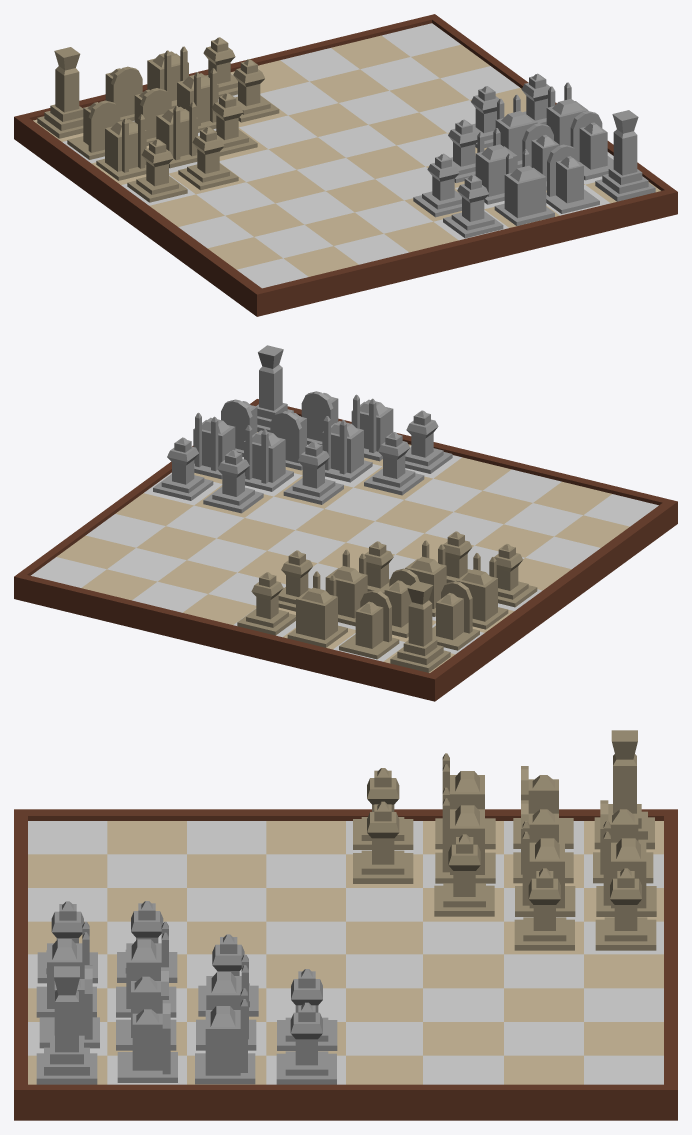
File: Part 2 game assets.fbx
3 renders of one model, top to bottom at view 1: azimuth 30°, elevation 25°; view 2: azimuth 150°, elevation 25°; view 3: azimuth 270°, elevation 25°, orthographic. The views are drawn at different scales.
Parts seen in each view (by area): view 1: board, crown piece, guard piece.003, crown piece.001, shield piece, guard piece.006, shield piece.002, guard piece.007, mercenary piece.003, mercenary piece.008, mercenary piece.009, guard piece.004 (+15 smaller); view 2: board, crown piece.001, guard piece.001, shield piece.001, guard piece.002, shield piece.005, guard piece.004, guard piece, guard piece.006, mercenary piece.002, mercenary piece.004, mercenary piece (+15 smaller); view 3: board, crown piece, guard piece, shield piece.002, mercenary piece.001, mercenary piece.007, mercenary piece.004, mercenary piece.006, mercenary piece.009, crown piece.001, guard piece.001, guard piece.007 (+15 smaller).
Boxes of the visible parts, x1,y1,x2,y2 form: board: (14, 14, 677, 316); crown piece: (595, 110, 655, 201); guard piece.003: (494, 149, 554, 225); crown piece.001: (37, 47, 83, 138); shield piece: (546, 144, 599, 213); guard piece.006: (96, 114, 146, 180); shield piece.002: (570, 111, 613, 180); guard piece.007: (148, 102, 197, 168); mercenary piece.003: (443, 174, 503, 238); mercenary piece.008: (127, 139, 187, 202); mercenary piece.009: (178, 126, 238, 190); guard piece.004: (475, 128, 517, 204); board: (14, 399, 677, 701); crown piece.001: (390, 581, 450, 672); guard piece.001: (287, 571, 347, 647); shield piece.001: (339, 590, 399, 659); guard piece.002: (244, 425, 293, 491); shield piece.005: (432, 581, 479, 650); guard piece.004: (322, 416, 372, 482); guard piece: (193, 412, 235, 479); guard piece.006: (456, 553, 508, 629); mercenary piece.002: (364, 432, 424, 495); mercenary piece.004: (153, 437, 213, 500); mercenary piece: (203, 450, 263, 513); board: (14, 809, 677, 1120); crown piece: (36, 966, 97, 1084); guard piece: (195, 988, 255, 1084); shield piece.002: (117, 1000, 177, 1082); mercenary piece.001: (595, 868, 656, 950); mercenary piece.007: (434, 834, 494, 916); mercenary piece.004: (276, 1002, 336, 1084); mercenary piece.006: (514, 868, 574, 950); mercenary piece.009: (353, 801, 413, 883); crown piece.001: (594, 730, 654, 849); guard piece.001: (596, 821, 656, 916); guard piece.007: (435, 787, 495, 883).
Bounding box in the file's own units: 22000 × 4625 × 22000.
